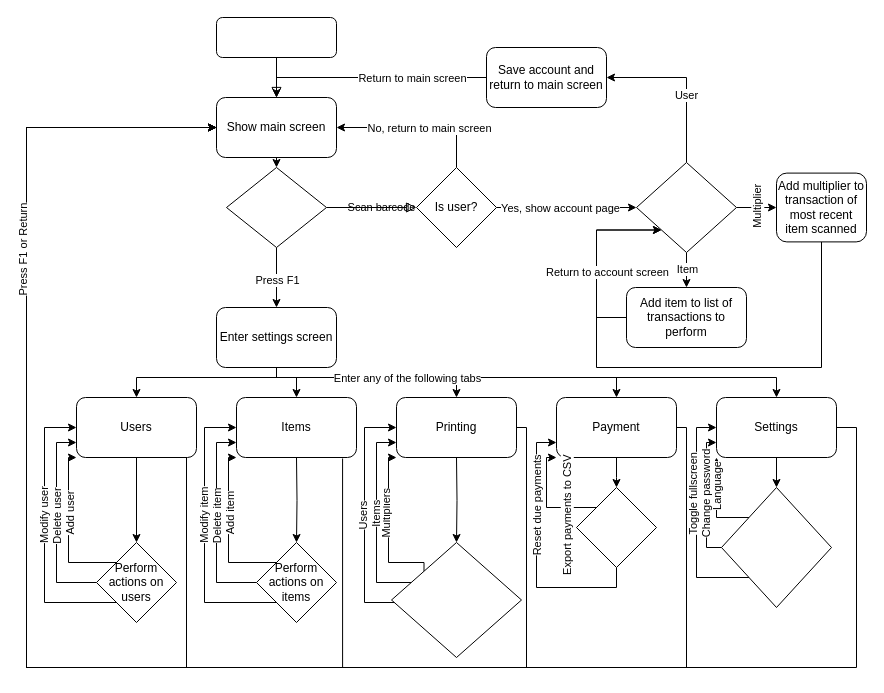
Image size: 884x693. Some labels were removed from this diagram. Each missing label, with the centre of its shape:
Change any of the following settings: (x=776, y=547)
Do either: (x=276, y=207)
Open application: (x=276, y=37)
Perform any actions: (x=616, y=527)
Print barcodes for any of the following: (x=456, y=600)
Scan barcode of: (x=686, y=207)
